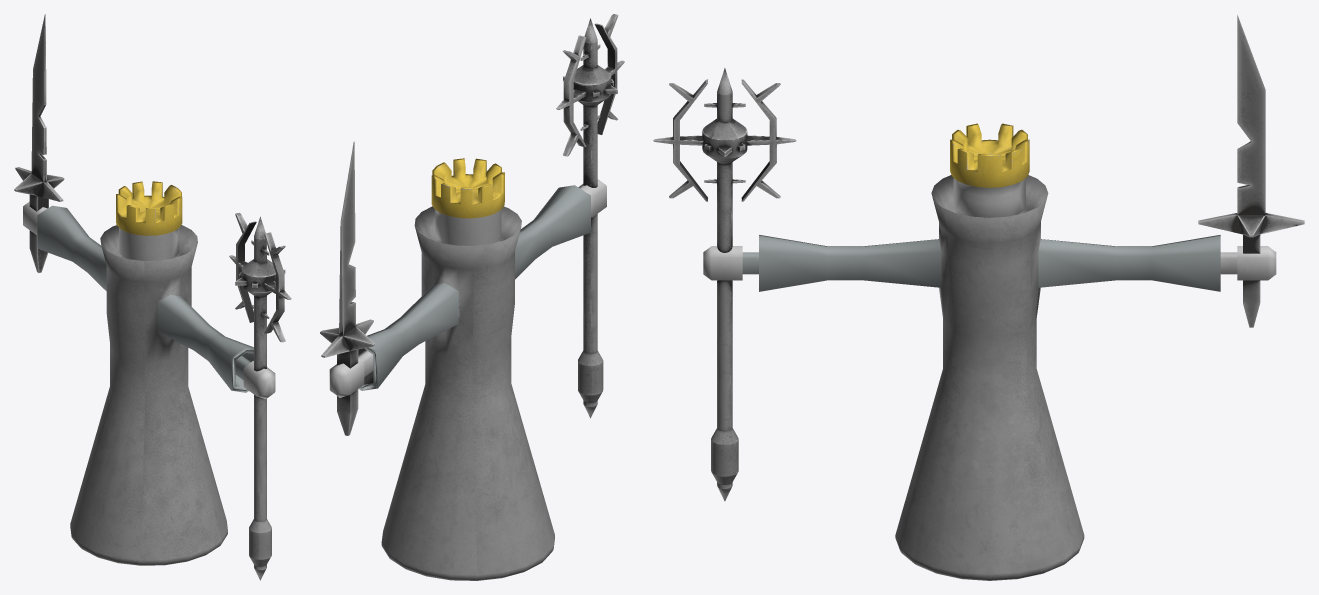
Rendered from Final_Enemy.fbx.
3 renders of one model, left to right at view 1: azimuth 30°, elevation 25°; view 2: azimuth 150°, elevation 25°; view 3: azimuth 270°, elevation 25°, orthographic. The views are drawn at different scales.
Parts seen in each view (by area): view 1: Final_enemy, Staff, pCube1; view 2: Final_enemy, Staff, pCube1; view 3: Final_enemy, Staff, pCube1.
Part boxes in pixels (x1,y1,x2,y2): Final_enemy: [23, 181, 275, 565]; Staff: [229, 212, 291, 580]; pCube1: [14, 14, 64, 272]; Final_enemy: [329, 158, 606, 580]; Staff: [556, 14, 624, 418]; pCube1: [320, 141, 374, 435]; Final_enemy: [703, 123, 1276, 580]; Staff: [653, 68, 796, 501]; pCube1: [1198, 15, 1304, 327].
Bounding box in the file's own units: 3 × 9.27 × 10.34.
